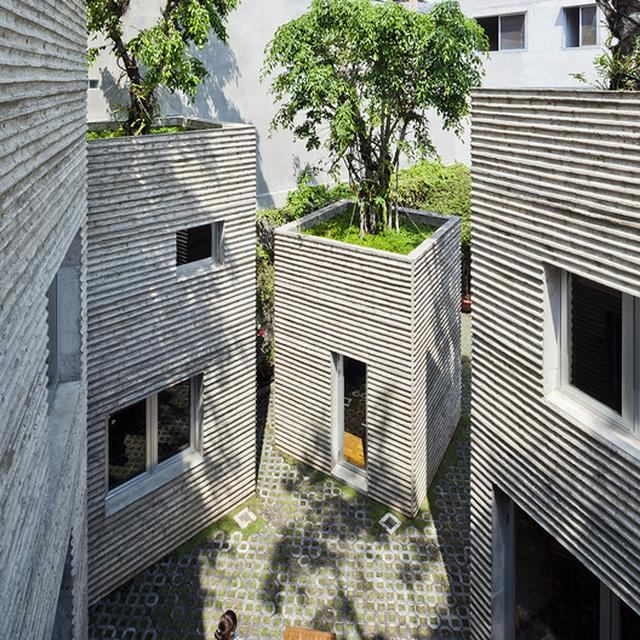building: (464, 68, 640, 640), (72, 101, 255, 585), (274, 166, 448, 547)
